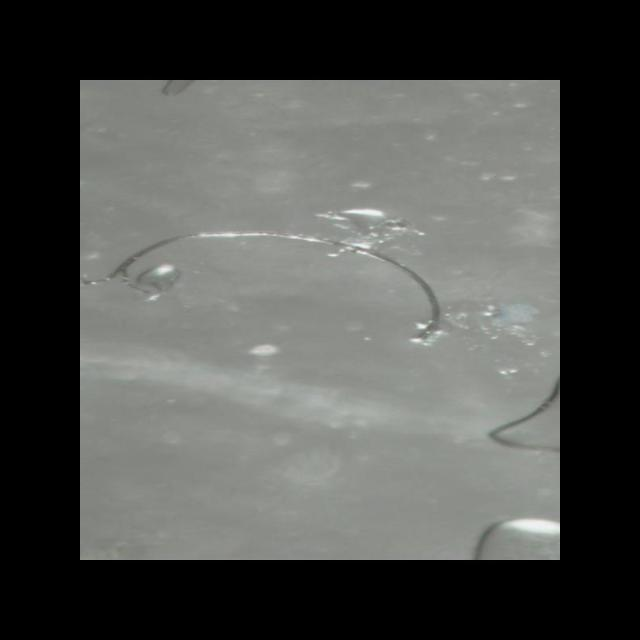Fibre: (80, 223, 452, 345)
